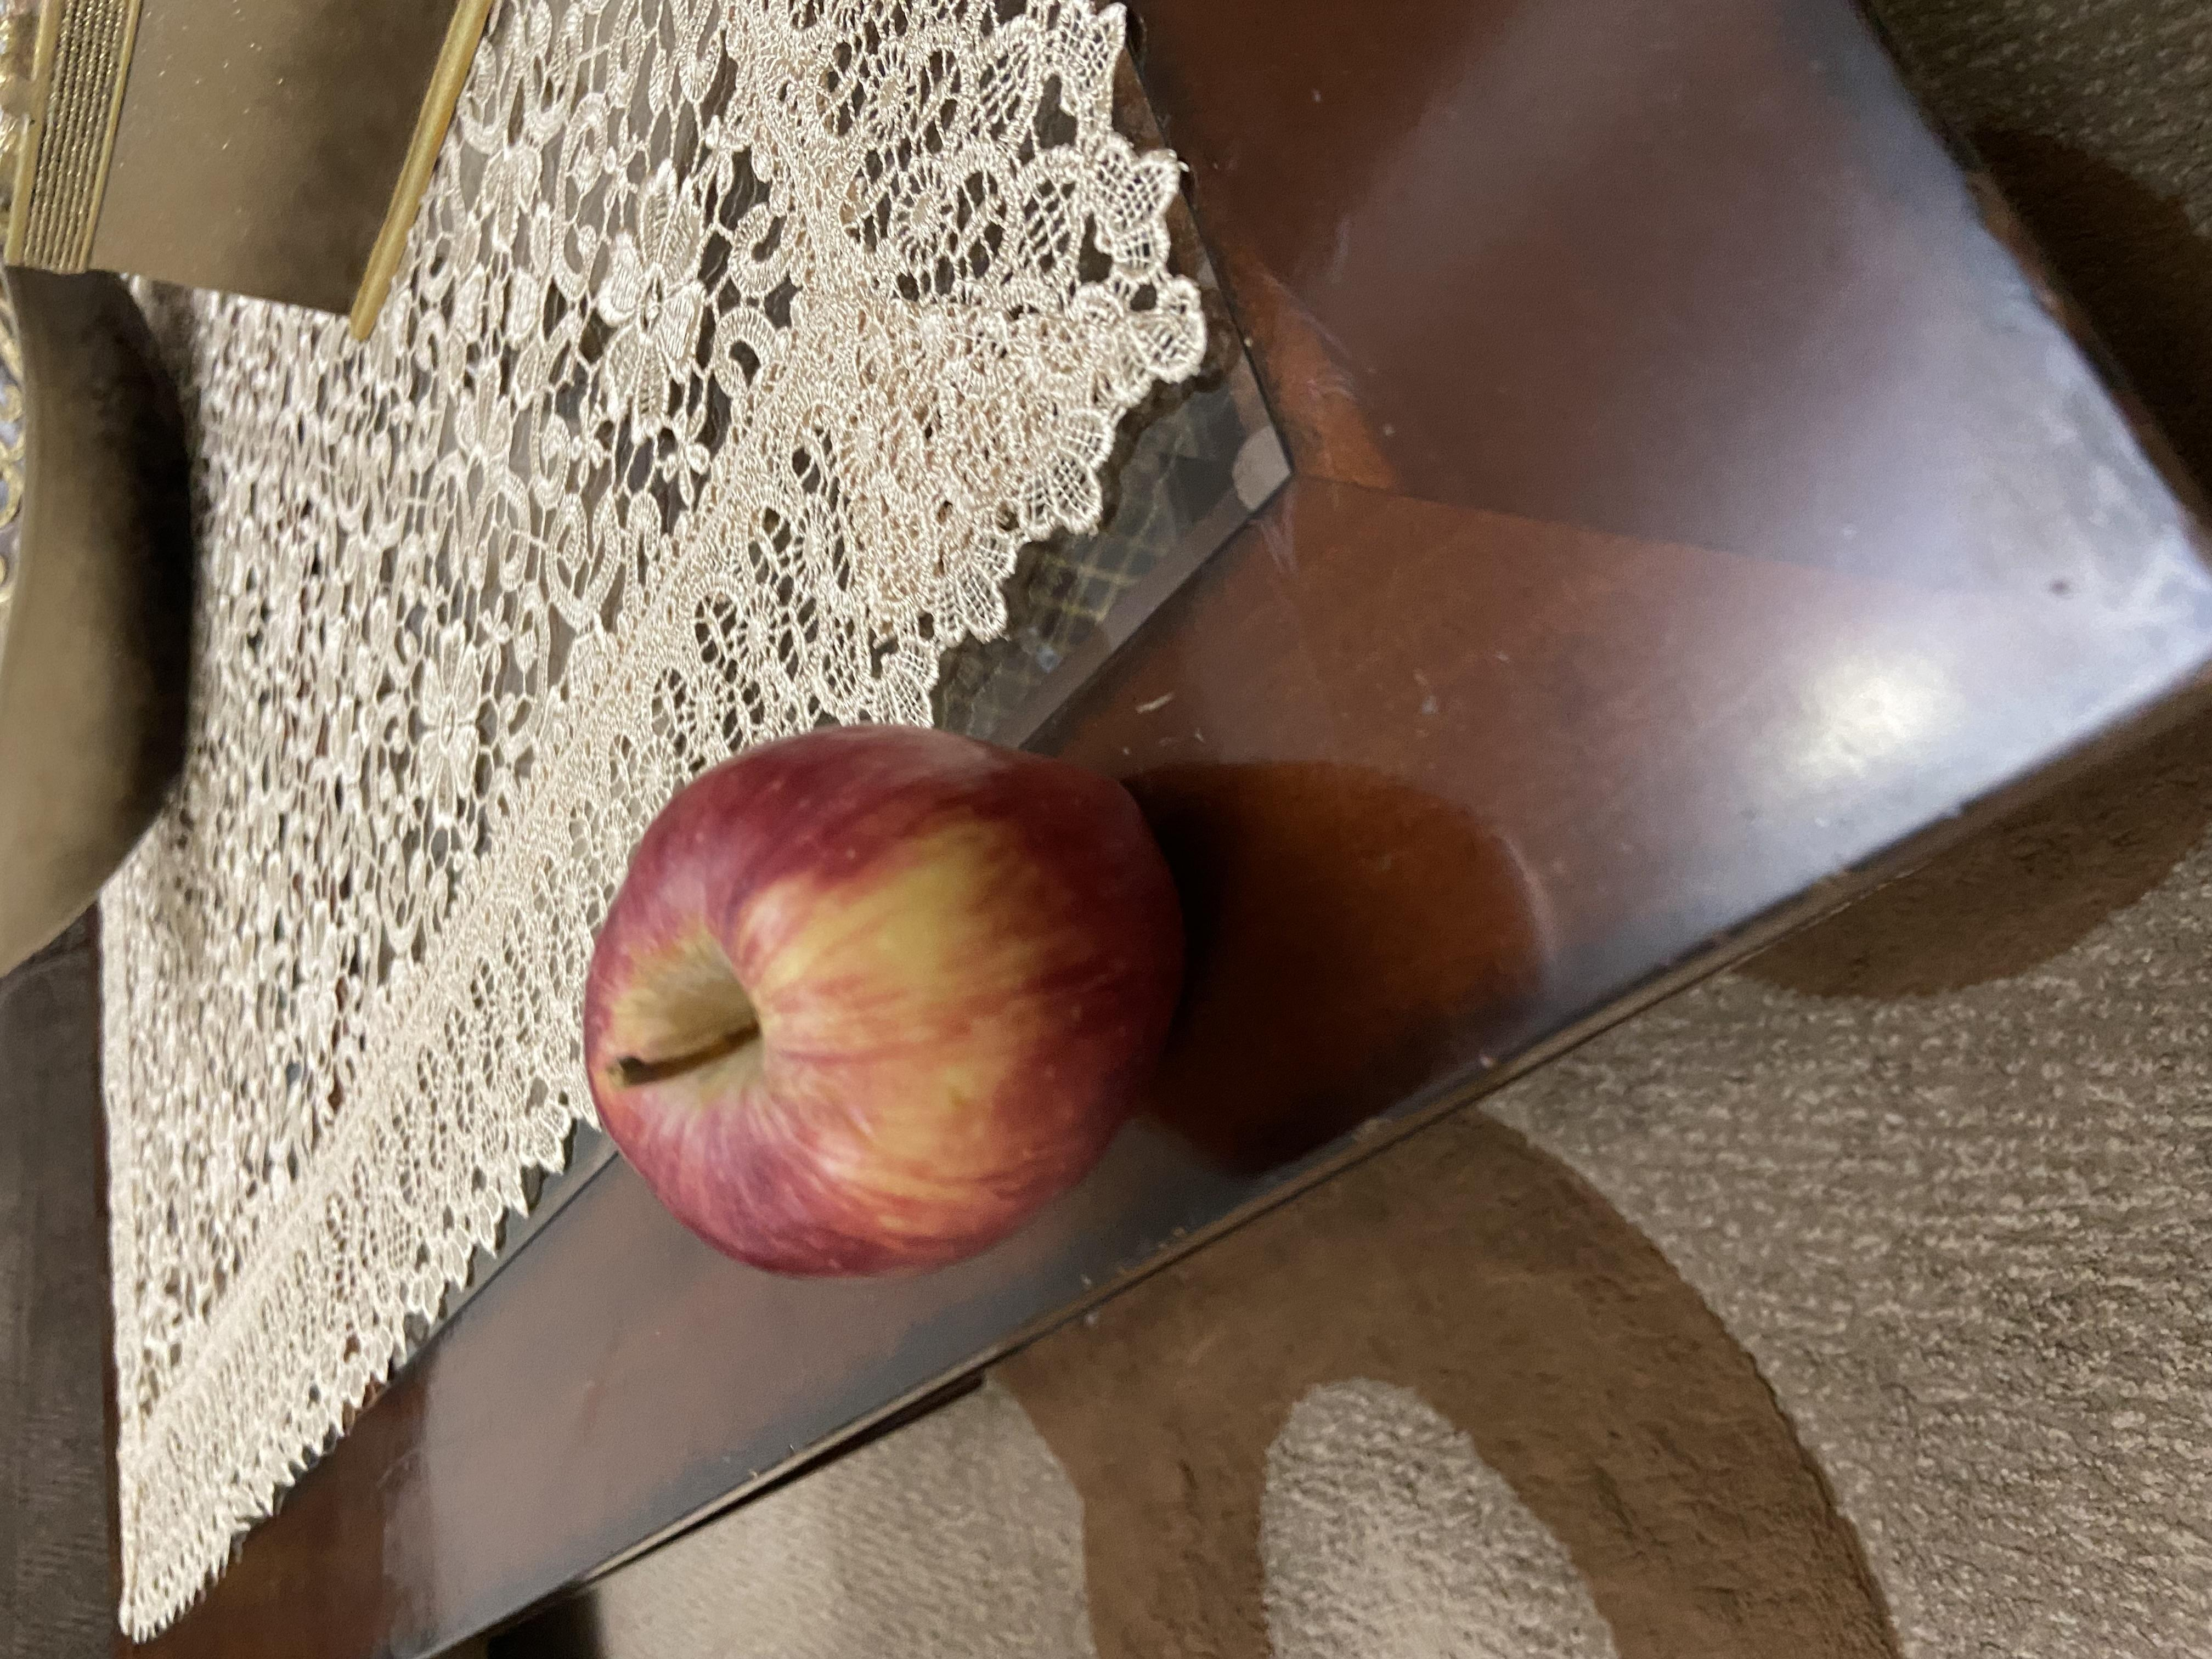Apple: (493, 415, 1259, 889)
